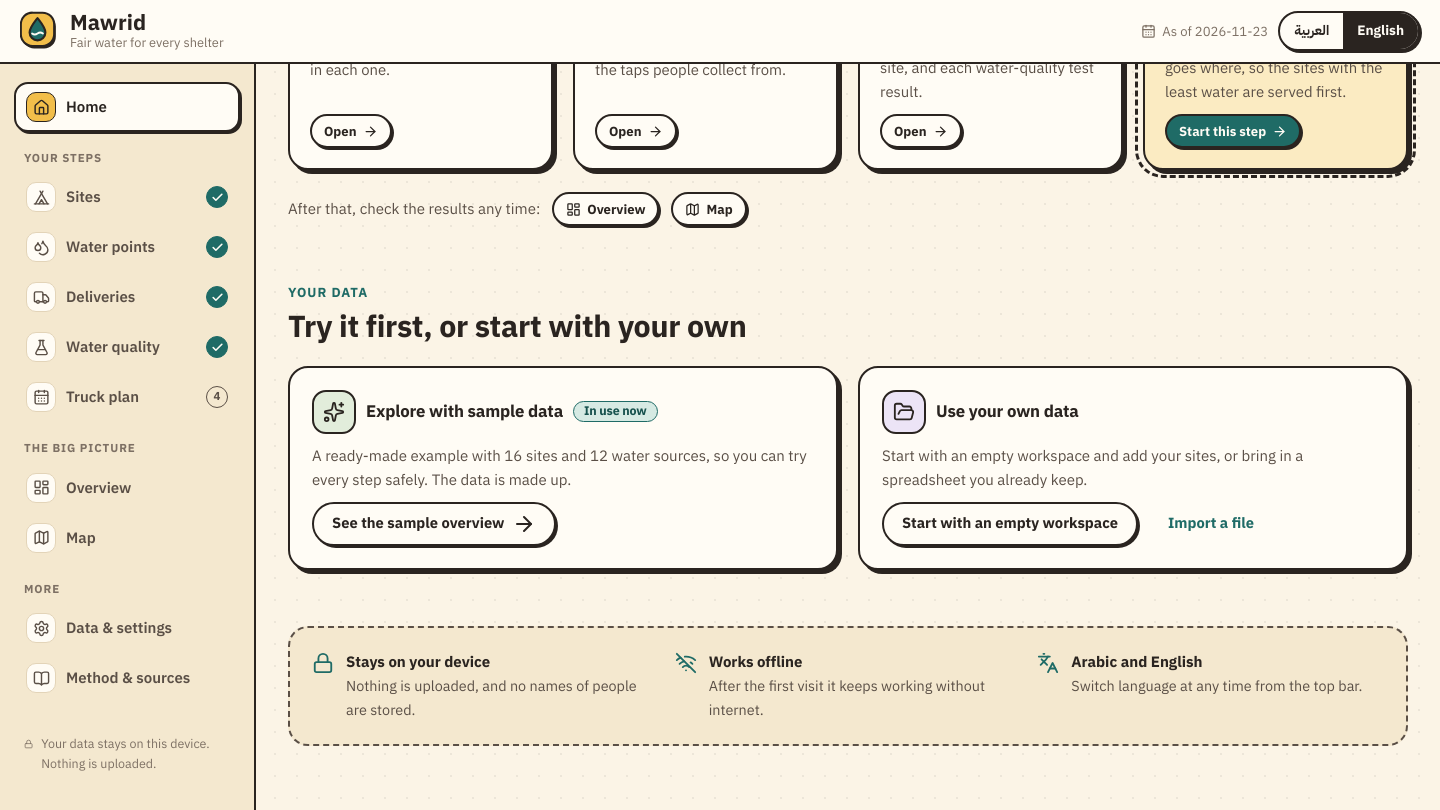
Test: welcome page and guided steps › switches from sample data to an empty workspace from the welcome page
(page scrolled)
Click the button "Start with an empty workspace" at (1010, 524), box x1=882 y1=502 x2=1138 y2=546
(page scrolled)
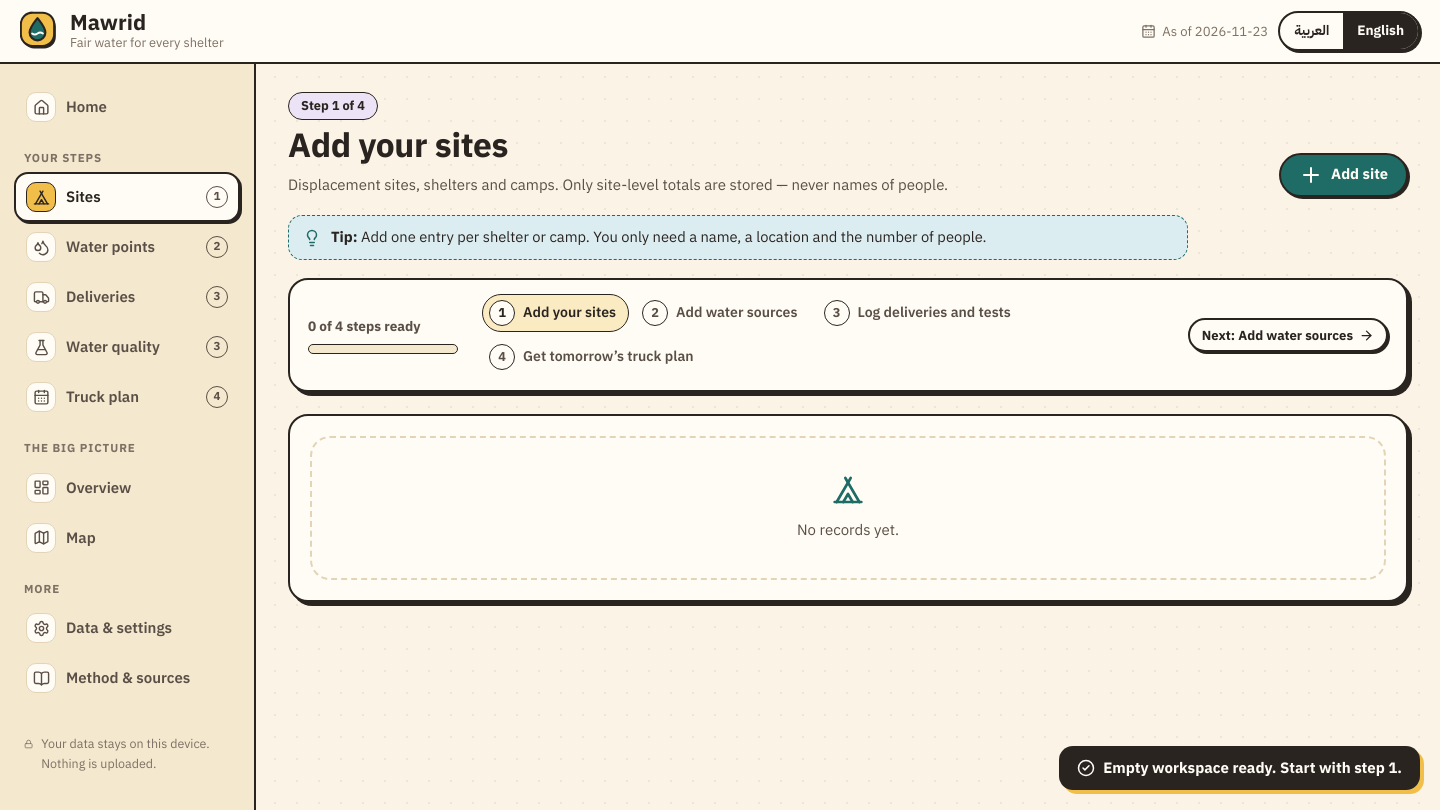
Expected: the heading "Add your sites" is shown, x1=288 y1=122 x2=508 y2=172
Expected: the text "No records yet." is shown, x1=310 y1=436 x2=1386 y2=580
